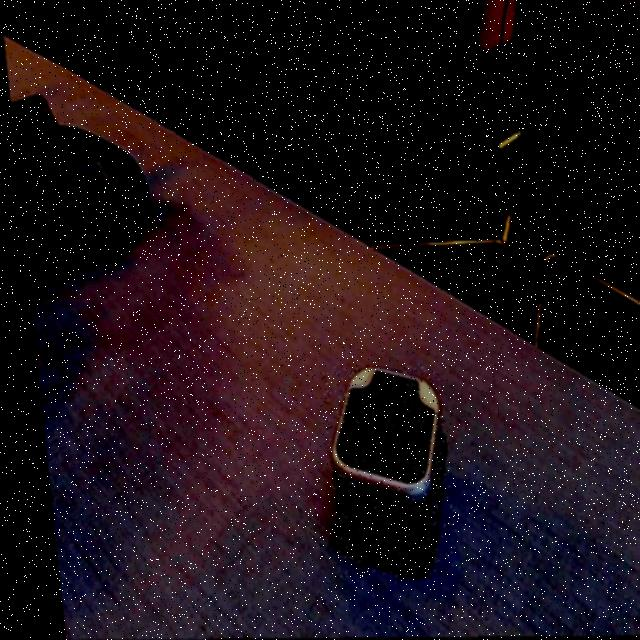adapter: (311, 365, 448, 577)
